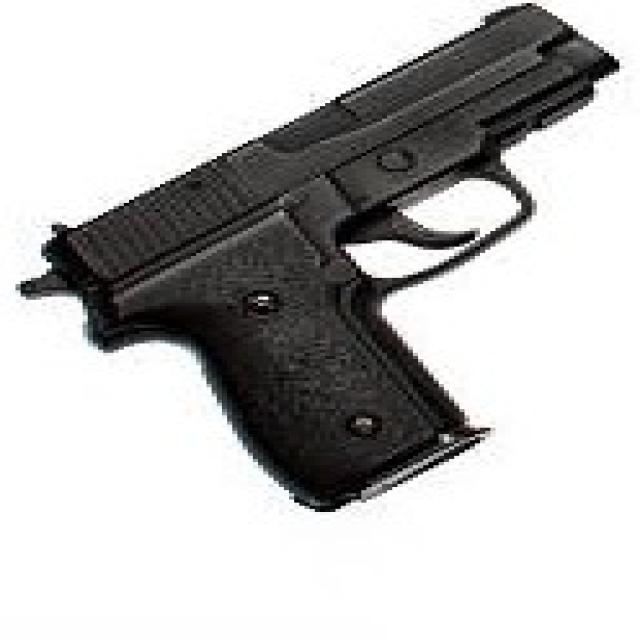pistol: (6, 1, 640, 525)
